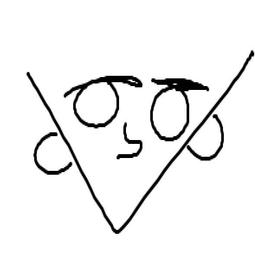ear: (186, 109, 230, 165), (30, 124, 75, 175)
empty_eye: (68, 79, 121, 129), (147, 86, 190, 144)
nose: (112, 121, 144, 161)
